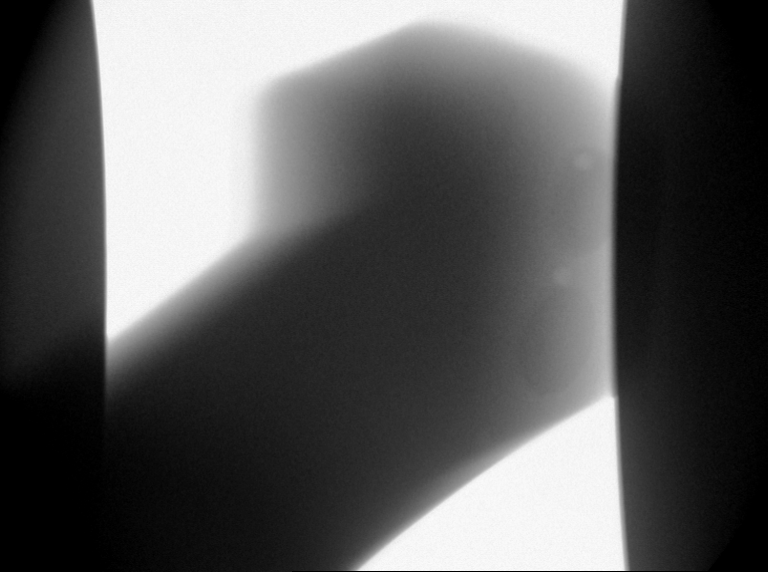defect: (471, 422, 498, 447)
